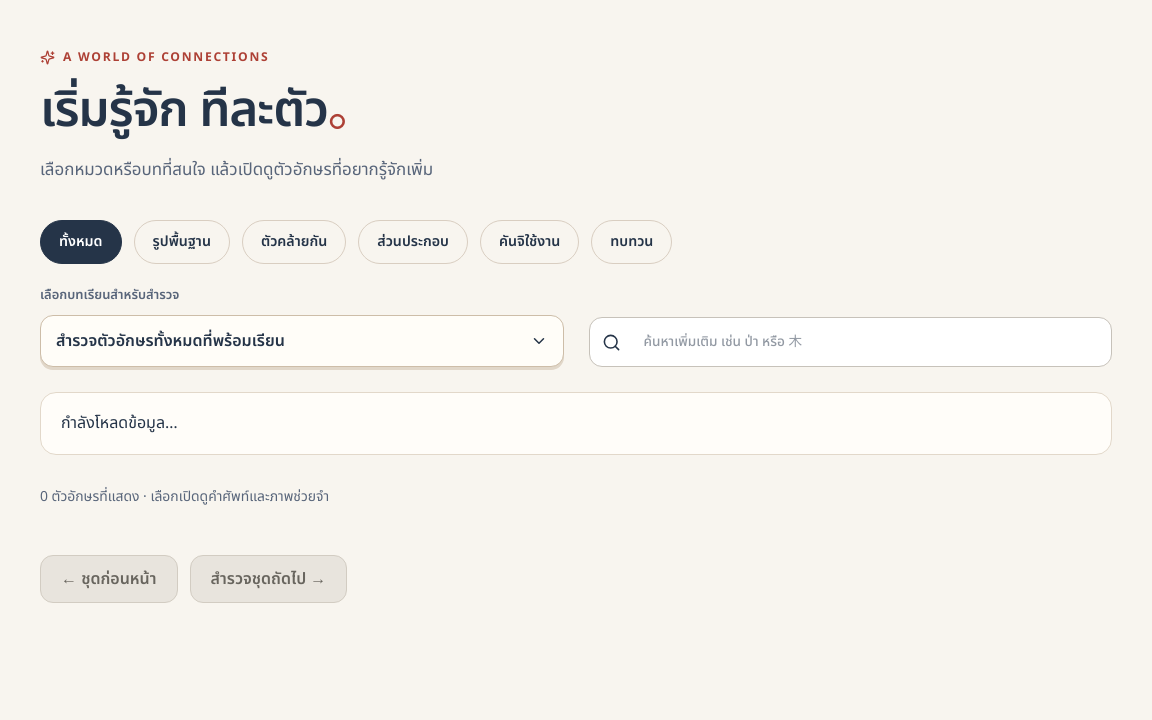
Test: resolves a category chosen before the chapter catalog finishes loading
Click the button "รูปพื้นฐาน" at coordinates (182, 242), box x1=134 y1=220 x2=230 y2=264
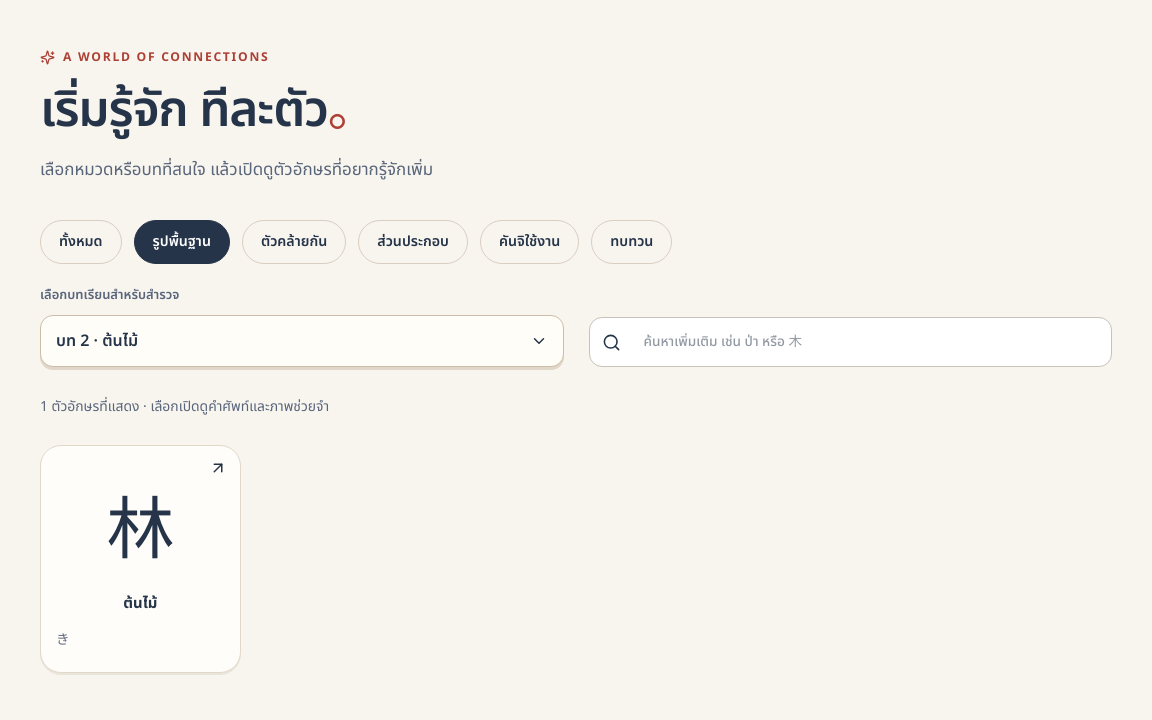
Now the text with class "explorer-glyph" reads "林", box x1=106 y1=474 x2=174 y2=573
